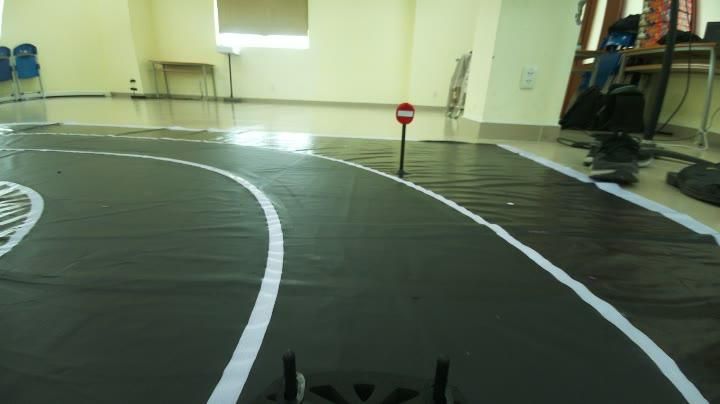no_entry: (392, 100, 420, 125)
